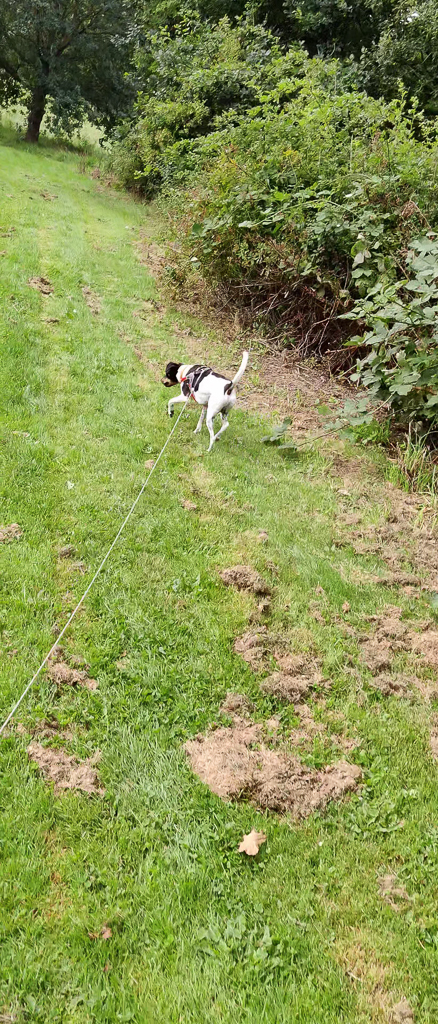Dog: (158, 337, 255, 458)
